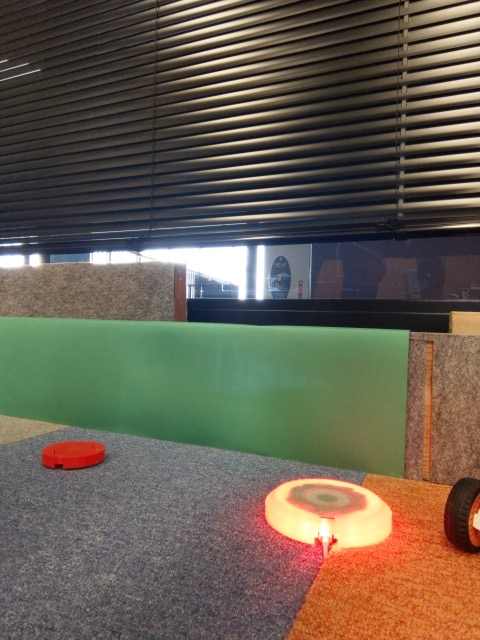r: (259, 473, 395, 551)
